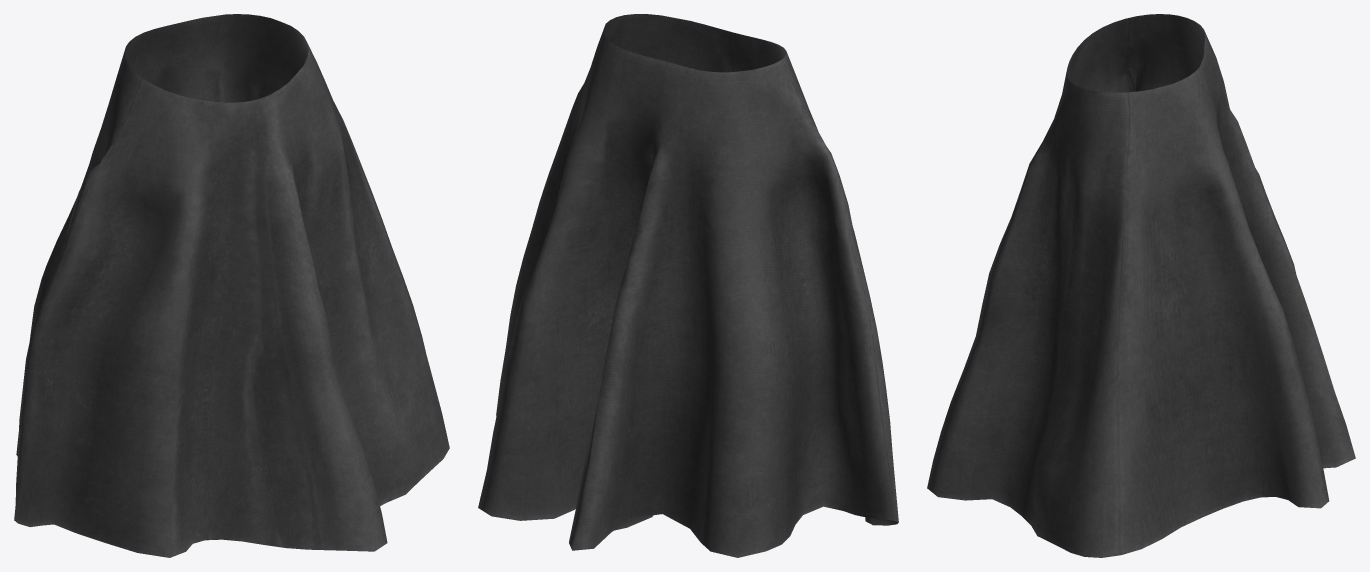
The model's file is clo_sk_dwarf_dress_normal_c.fbx.
The picture shows the model from 3 angles, left to right: view 1: azimuth 30°, elevation 25°; view 2: azimuth 150°, elevation 25°; view 3: azimuth 270°, elevation 25°; orthographic projection. The views are drawn at different scales.
Visible parts, largest first — view 1: clo_sk_dwarf_dress_normal_c; view 2: clo_sk_dwarf_dress_normal_c; view 3: clo_sk_dwarf_dress_normal_c.
Boxes of the visible parts, <box> form: clo_sk_dwarf_dress_normal_c: <box>14,14,449,557</box>; clo_sk_dwarf_dress_normal_c: <box>478,14,898,557</box>; clo_sk_dwarf_dress_normal_c: <box>927,14,1355,557</box>.
Bounding box in the file's own units: 0.8755 × 0.8243 × 0.9025.
Materials: 1 (1 with a texture image).
